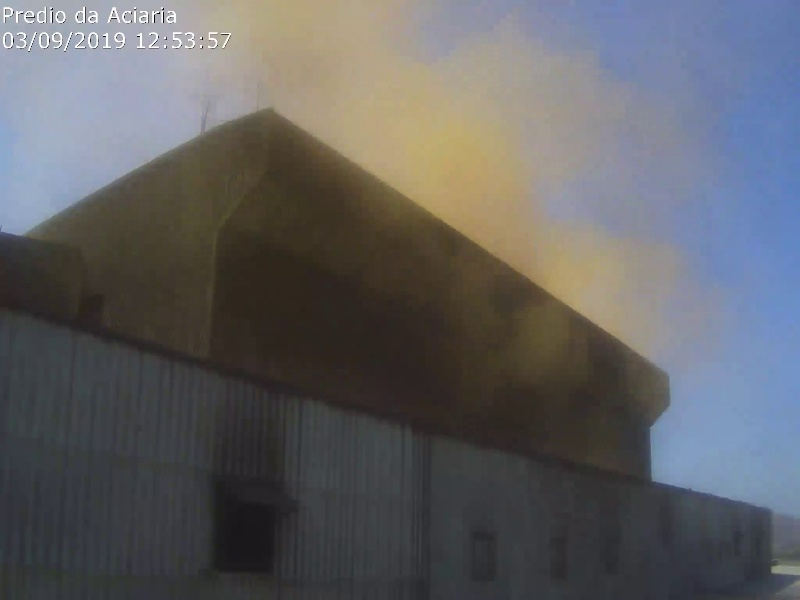pessimo: (160, 8, 716, 399)
